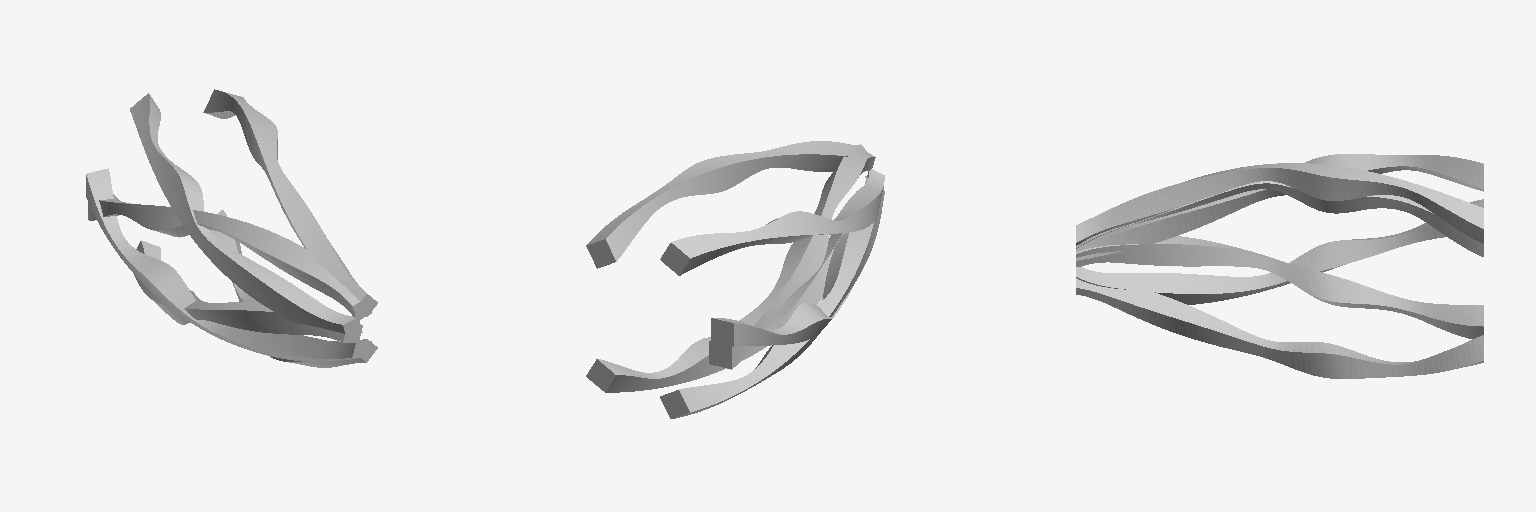
Rendered from substructure_test2.obj.
3 views of the same model, side by side, from view 1: azimuth 30°, elevation 25°; view 2: azimuth 150°, elevation 25°; view 3: azimuth 270°, elevation 25° (orthographic).
Bounding box in the file's own units: 67.1 × 81.44 × 148.